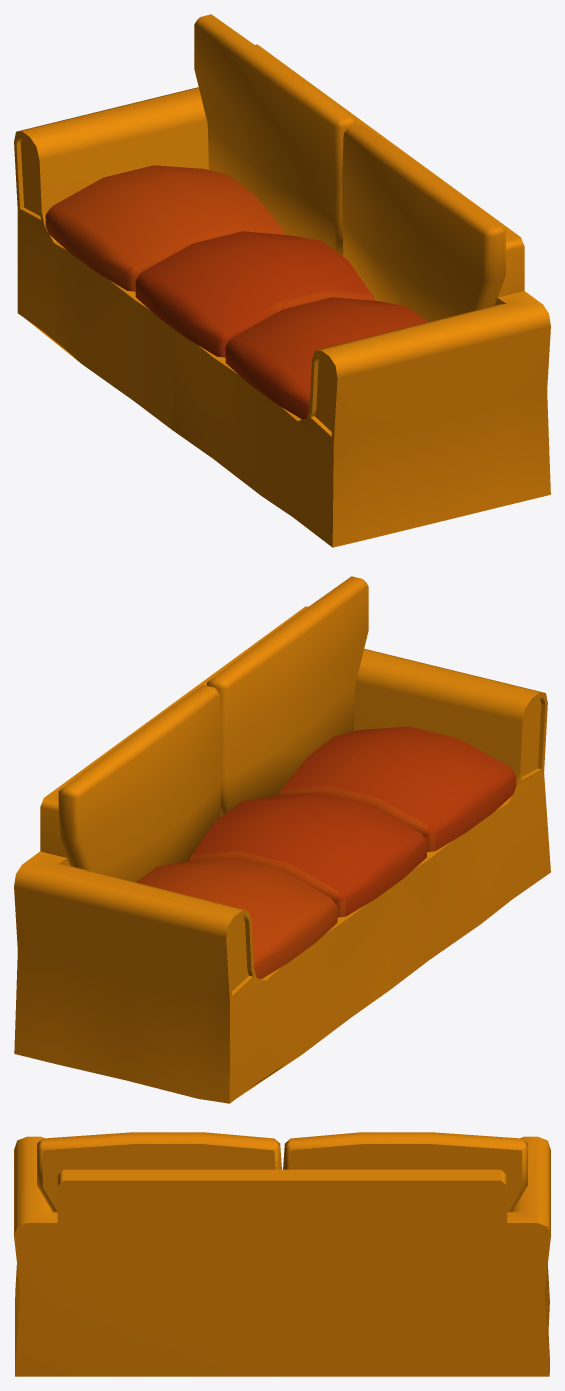
File: LongArmchair.fbx
The picture shows the model from 3 angles, top to bottom: view 1: azimuth 30°, elevation 25°; view 2: azimuth 150°, elevation 25°; view 3: azimuth 270°, elevation 25°; orthographic projection. The views are drawn at different scales.
Visible parts, largest first — view 1: ArmchairLong; view 2: ArmchairLong; view 3: ArmchairLong.
Boxes of the visible parts, bbox=[...] form: ArmchairLong: bbox=[14, 14, 550, 547]; ArmchairLong: bbox=[14, 576, 550, 1103]; ArmchairLong: bbox=[14, 1132, 550, 1376].
Size of the model in its own units: 179 by 212 by 459.
Materials: 1 (1 with a texture image).
